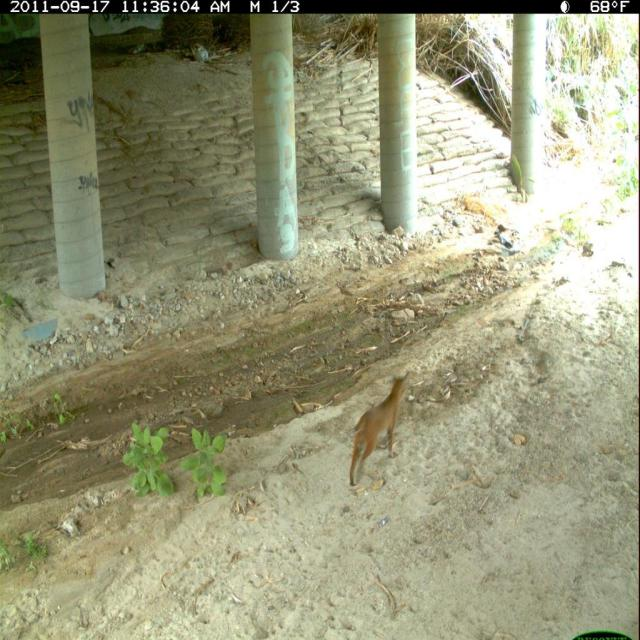bobcat: (345, 364, 419, 491)
